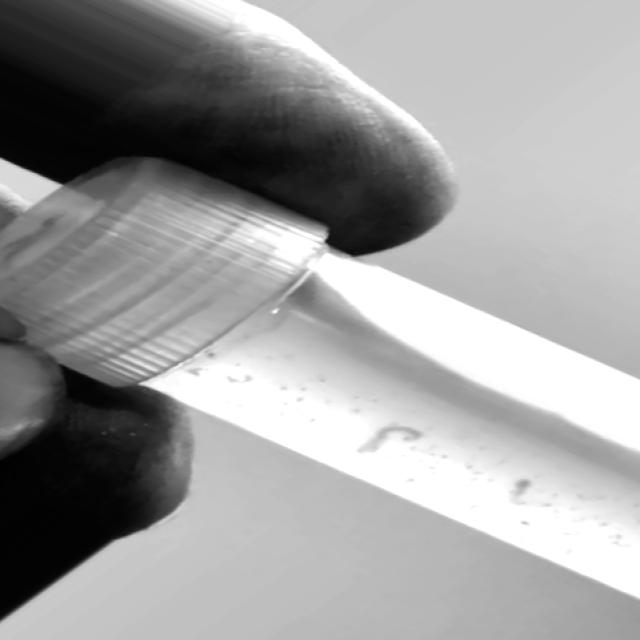larvas: (361, 423, 420, 454), (516, 480, 530, 502)
